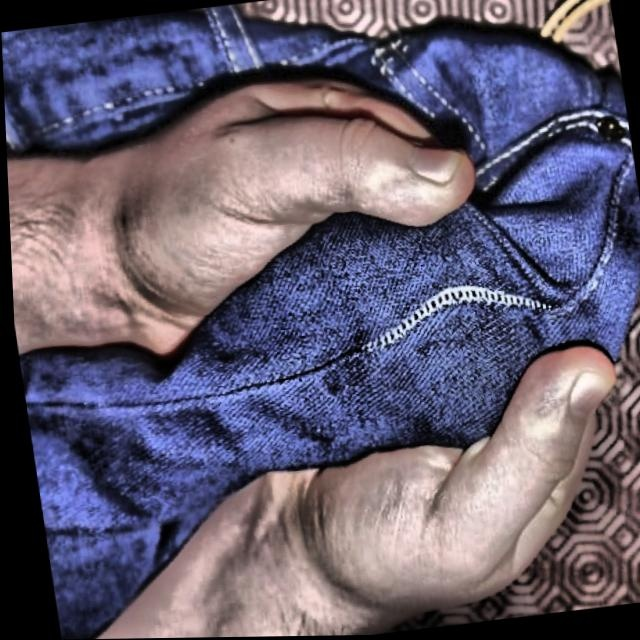seam: (332, 219, 605, 382)
